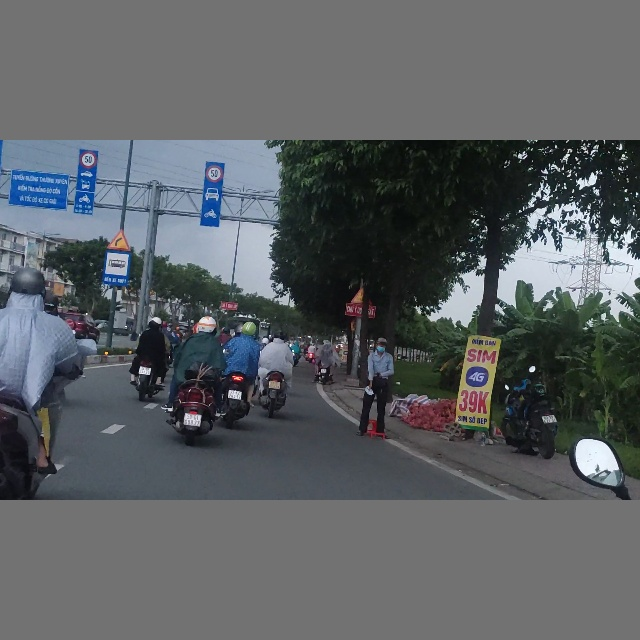I.434a: (103, 250, 130, 286)
P.127*50: (206, 165, 223, 183), (79, 151, 96, 168)
W.201b: (107, 228, 131, 250)
